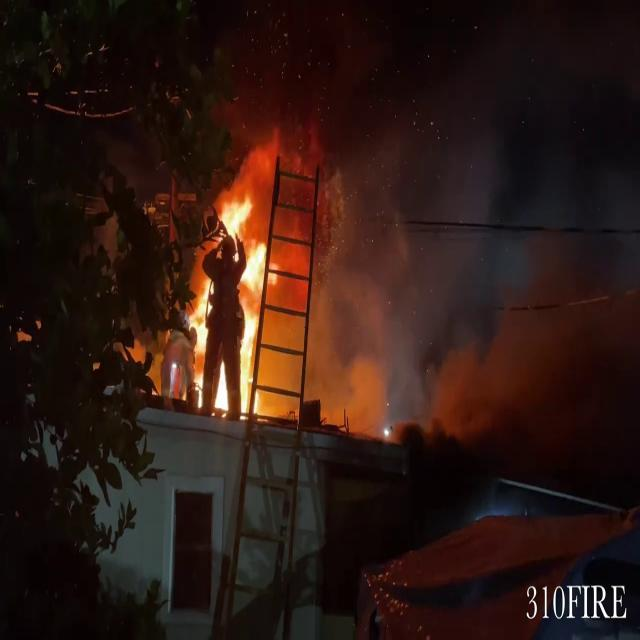Fire: (185, 187, 278, 421)
Smoke: (275, 2, 640, 424)
